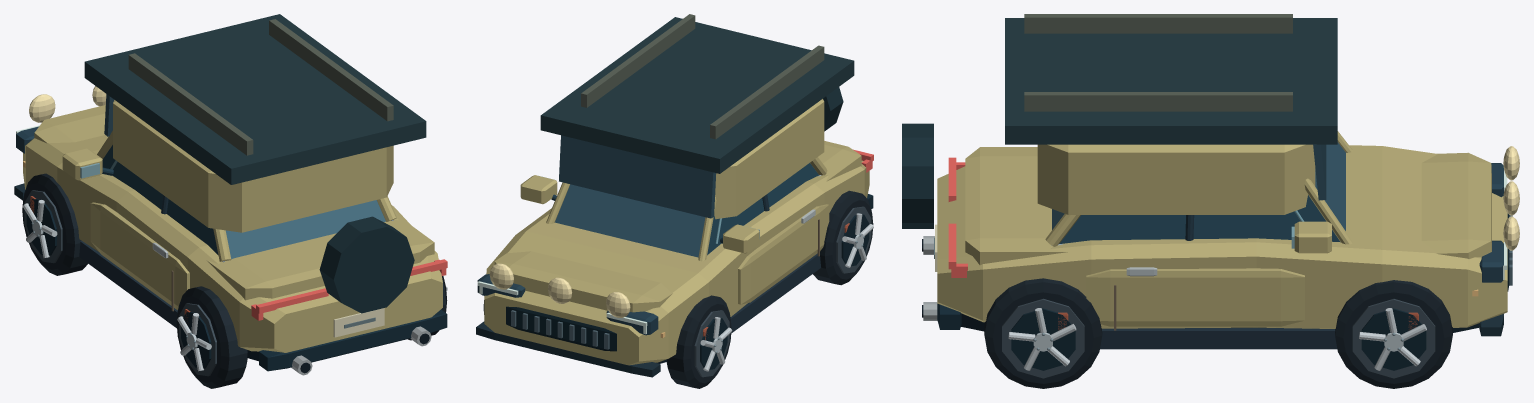
File: jeep.glb
The picture shows the model from 3 angles, left to right: view 1: azimuth 30°, elevation 25°; view 2: azimuth 150°, elevation 25°; view 3: azimuth 270°, elevation 25°; orthographic projection. The views are drawn at different scales.
Visible parts, largest first — view 1: jeep; view 2: jeep; view 3: jeep.
Part boxes in pixels (x1=…): jeep: x1=14, y1=14, x2=447, y2=388; jeep: x1=476, y1=14, x2=873, y2=388; jeep: x1=902, y1=14, x2=1519, y2=388.
Size of the model in its own units: 2.54 by 2.37 by 4.83.
